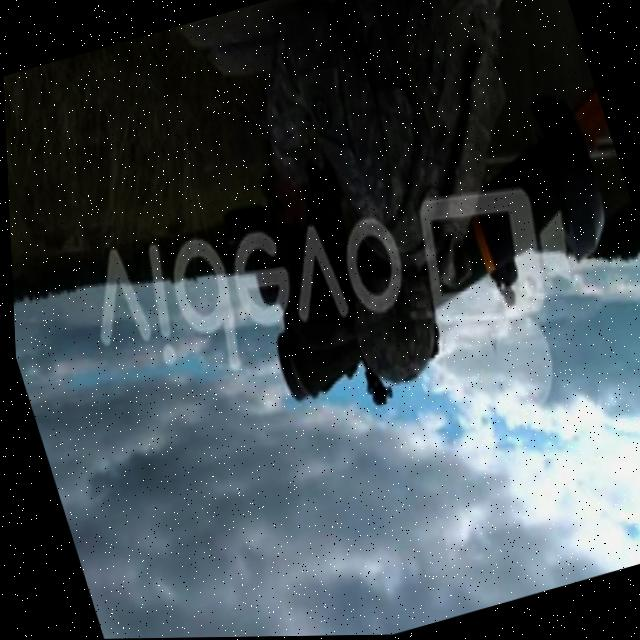rocket: (208, 53, 640, 450)
